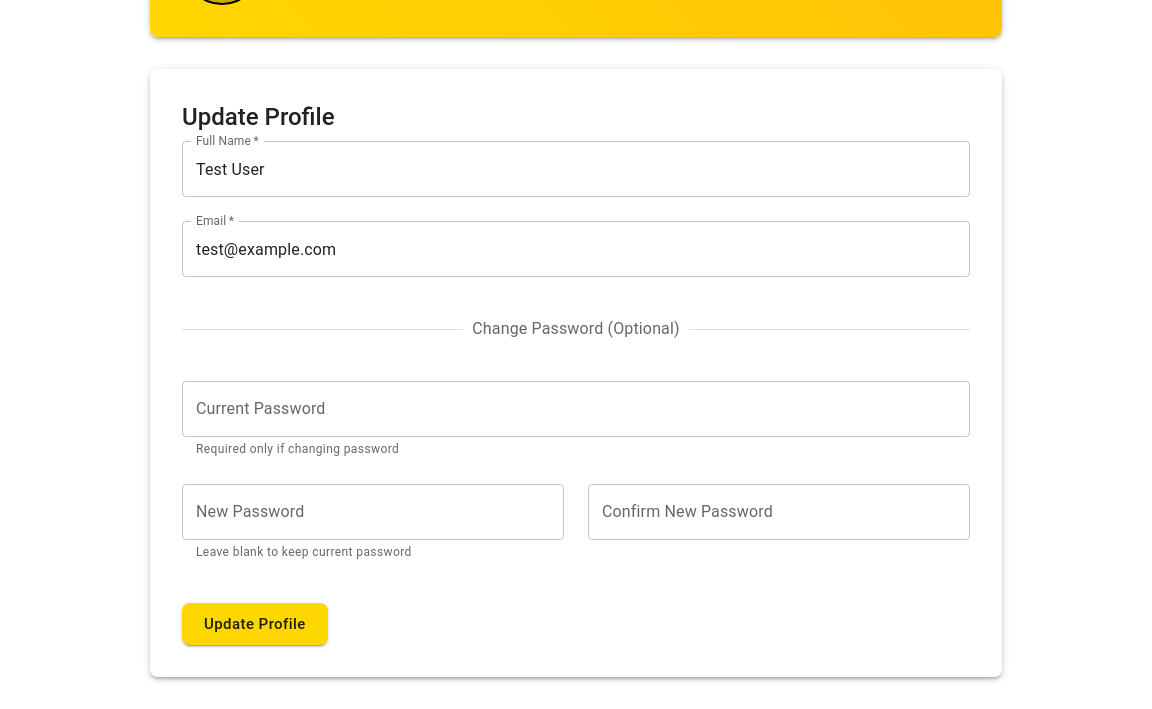
Test: Profile Component › Error Handling › should handle API errors gracefully
The image size is (1152, 709).
(page scrolled)
What coordinates should you click on to do the following:
click the button "Update Profile"
I would click on:
 (255, 624)
Its box is x1=182 y1=603 x2=328 y2=646.
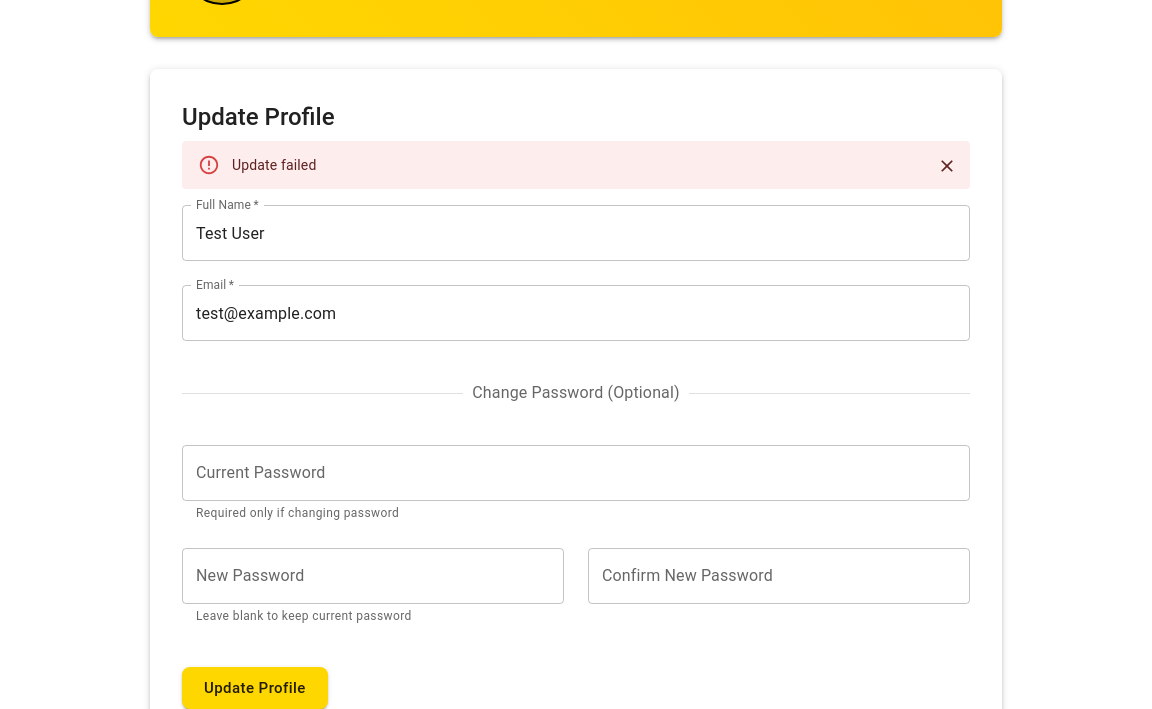
Expected: the text "Update failed" is shown, x1=232 y1=157 x2=316 y2=173
